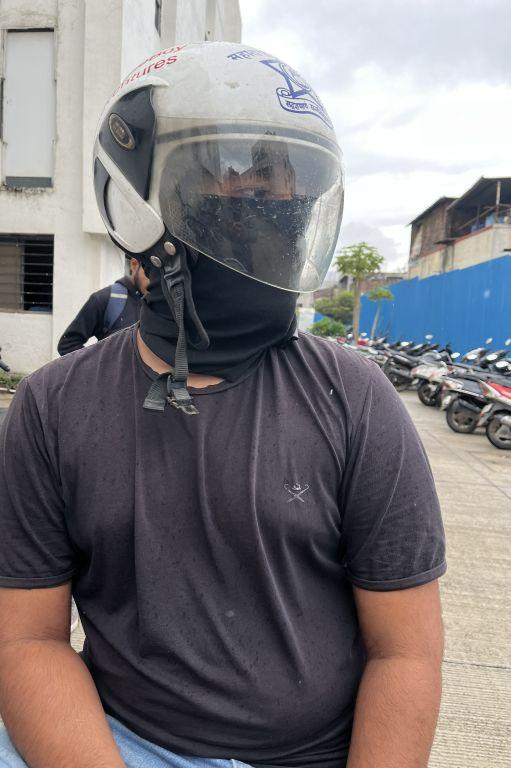helmet: (82, 27, 355, 339)
